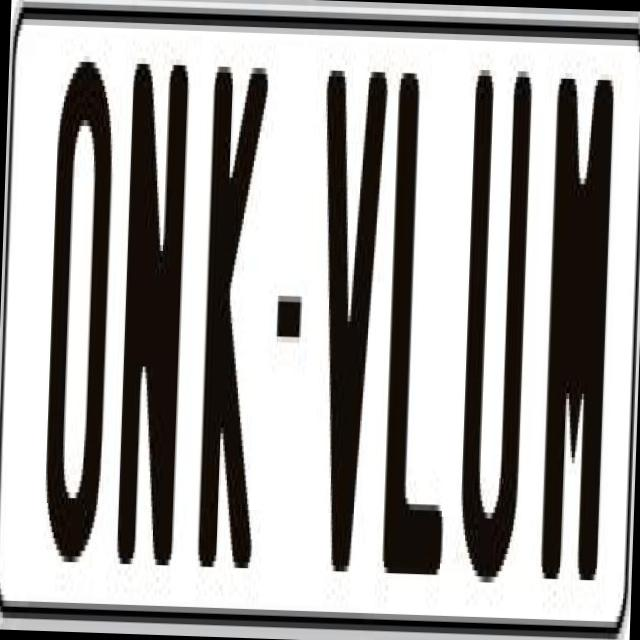0: (43, 60, 124, 563)
K: (197, 60, 270, 562)
L: (377, 55, 454, 569)
M: (536, 72, 615, 598)
N: (111, 51, 185, 583)
U: (456, 51, 540, 584)
V: (306, 52, 394, 590)
